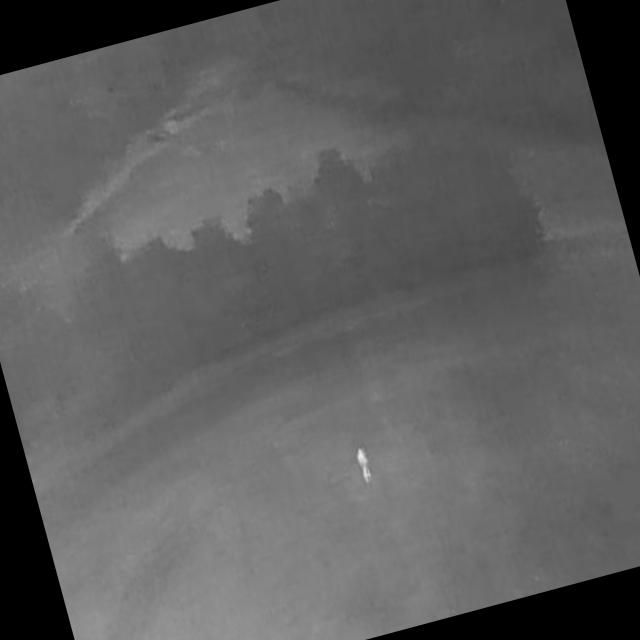person: (354, 447, 374, 485)
